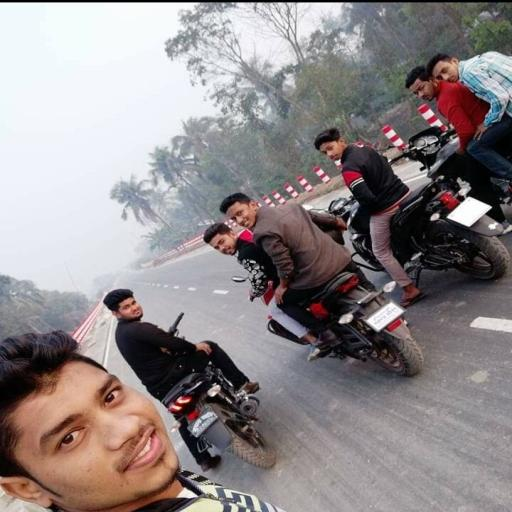overloading: (4, 48, 508, 508)
